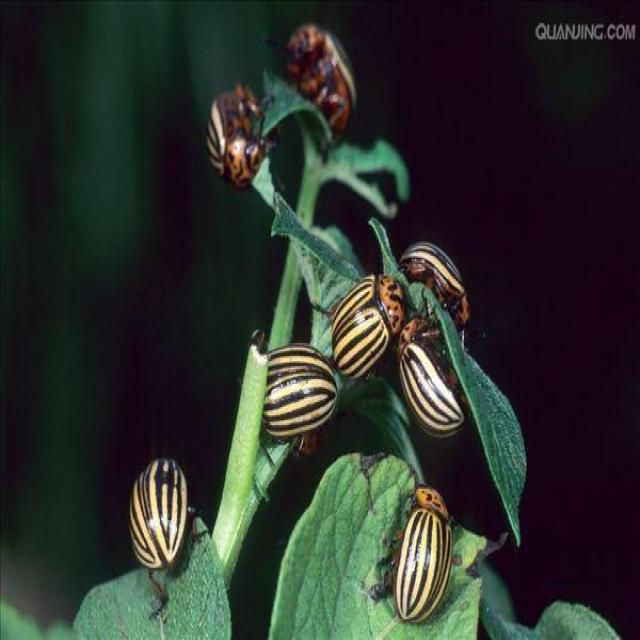ShuCaiHuaBanChong-Grown-: (133, 451, 206, 617), (286, 20, 361, 146), (255, 344, 348, 445), (383, 480, 455, 610), (393, 314, 463, 443), (332, 267, 403, 386), (397, 225, 471, 326), (203, 84, 270, 192)
